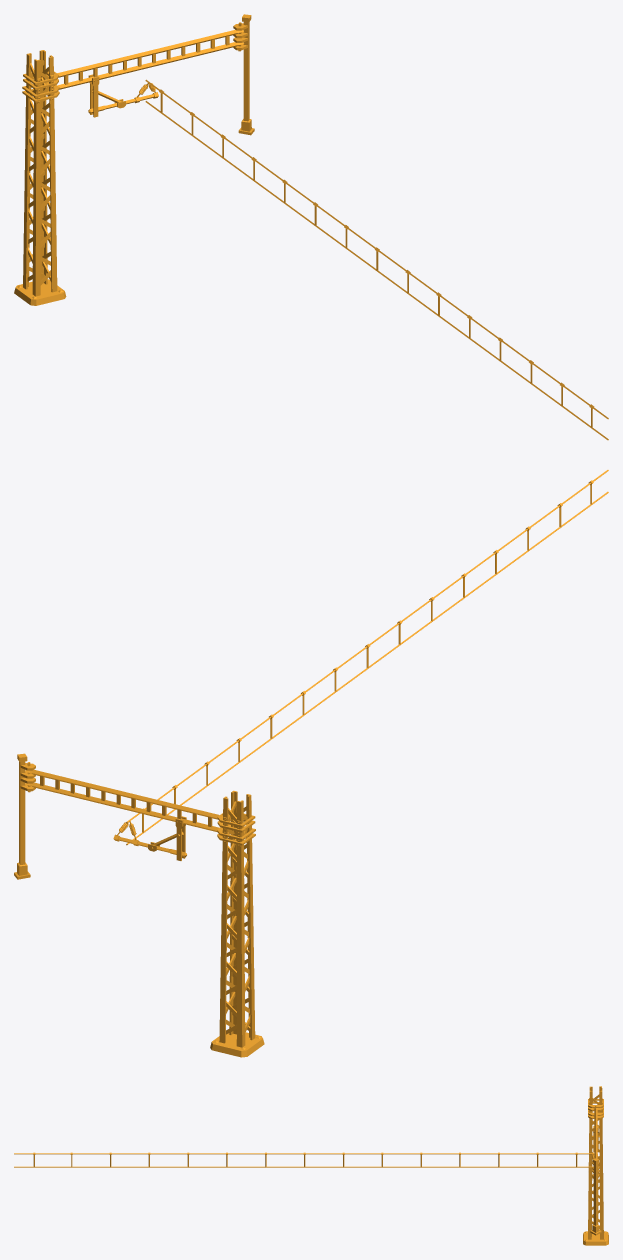
File: SM_Train_Wiring_Roof_Semi.fbx
3 renders of one model, top to bottom at view 1: azimuth 30°, elevation 25°; view 2: azimuth 150°, elevation 25°; view 3: azimuth 270°, elevation 25°, orthographic. The views are drawn at different scales.
Visible parts, largest first — view 1: SM_Train_Wiring_Roof_Semi; view 2: SM_Train_Wiring_Roof_Semi; view 3: SM_Train_Wiring_Roof_Semi.
Boxes of the visible parts, x1,y1,x2,y2 form: SM_Train_Wiring_Roof_Semi: (14,14,608,440); SM_Train_Wiring_Roof_Semi: (14,470,608,1057); SM_Train_Wiring_Roof_Semi: (14,1086,608,1245).
Size of the model in its own units: 8.71 by 8.58 by 30.67.
